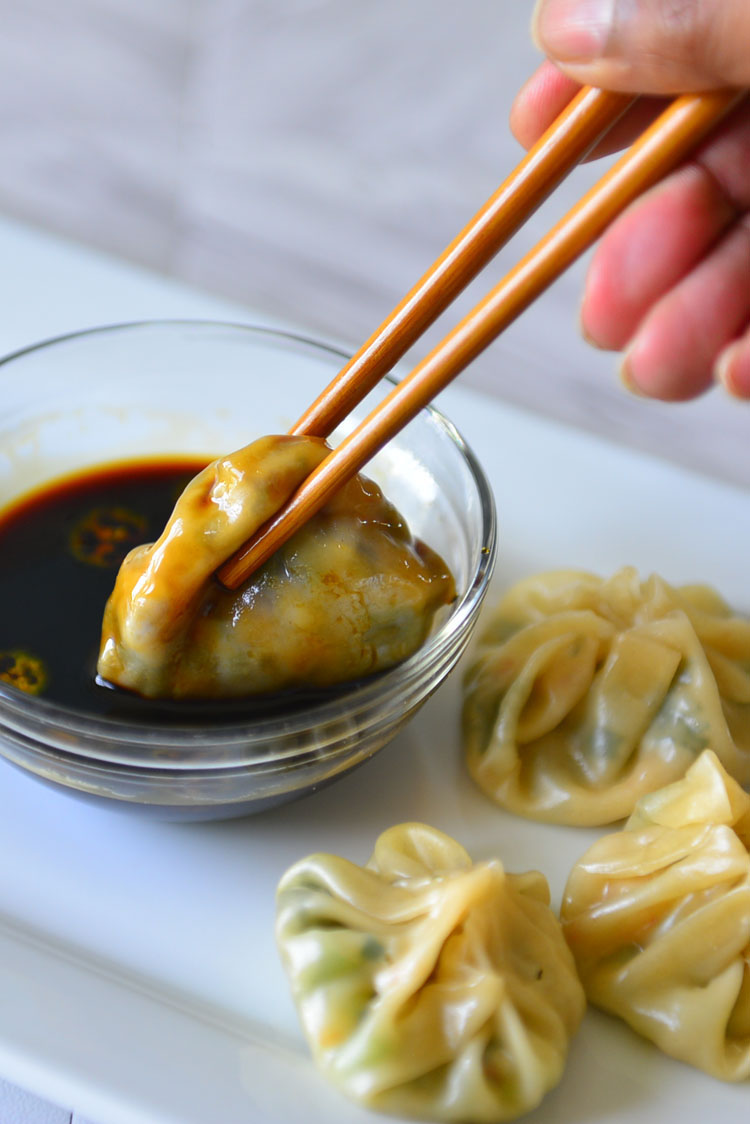momo: (82, 420, 465, 700), (255, 813, 582, 1124), (470, 555, 750, 822), (568, 745, 750, 1075)
